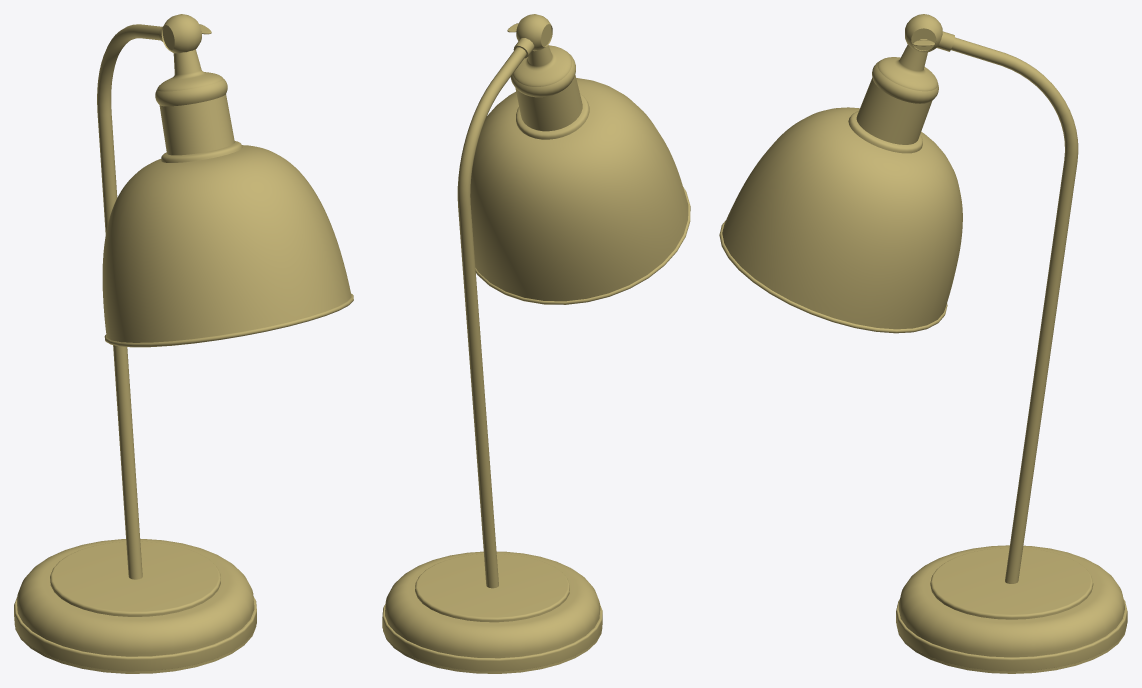
Rendered from MEGA_PACK_lamp__lamp-25416.glb.
3 views of the same model, side by side, from view 1: azimuth 30°, elevation 25°; view 2: azimuth 150°, elevation 25°; view 3: azimuth 270°, elevation 25° (orthographic). The views are drawn at different scales.
Visible parts, largest first — view 1: lamp-25416; view 2: lamp-25416; view 3: lamp-25416.
Boxes of the visible parts, <box> form: lamp-25416: <box>14,14,353,673</box>; lamp-25416: <box>382,14,690,673</box>; lamp-25416: <box>719,14,1127,673</box>.
Size of the model in its own units: 0.1613 by 0.45 by 0.2732.
1 material, 1 textured.
